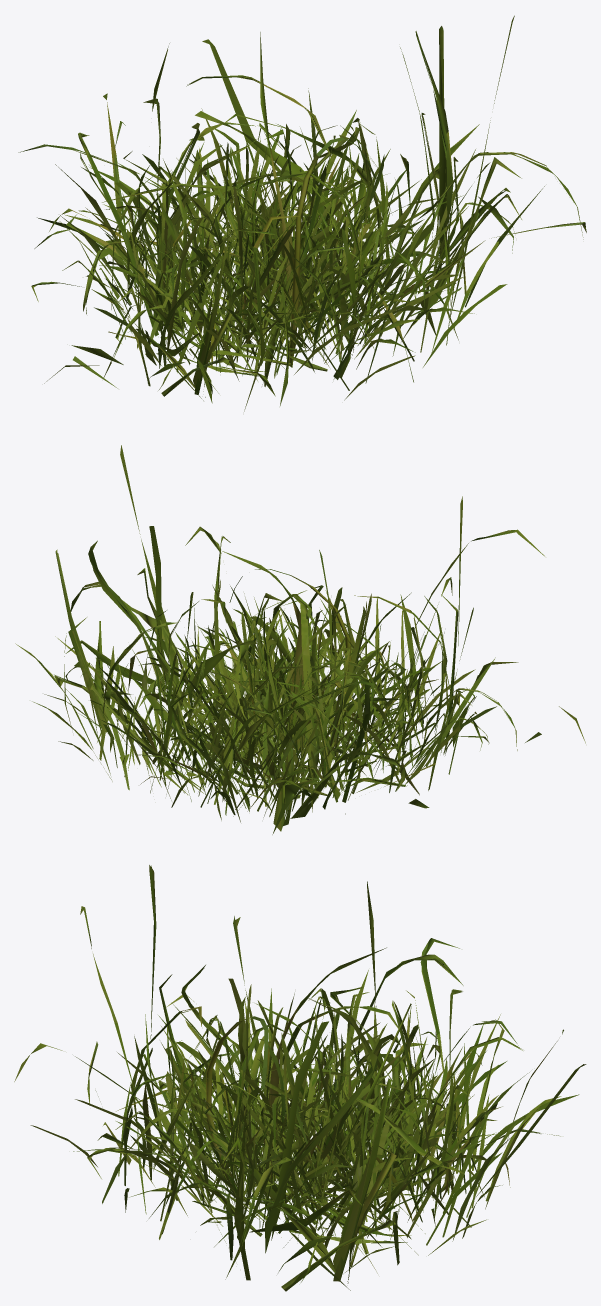
File: grass_clump2.glb
3 views of the same model, one above another, from view 1: azimuth 30°, elevation 25°; view 2: azimuth 150°, elevation 25°; view 3: azimuth 270°, elevation 25° (orthographic). The views are drawn at different scales.
Visible parts, largest first — view 1: Grass4; view 2: Grass4; view 3: Grass4.
Boxes of the visible parts, x1,y1,x2,y2 form: Grass4: (18,15,586,411); Grass4: (15,445,585,834); Grass4: (14,865,586,1291).
Size of the model in its own units: 0.8539 by 0.4532 by 0.7617.
1 material, 1 textured.
